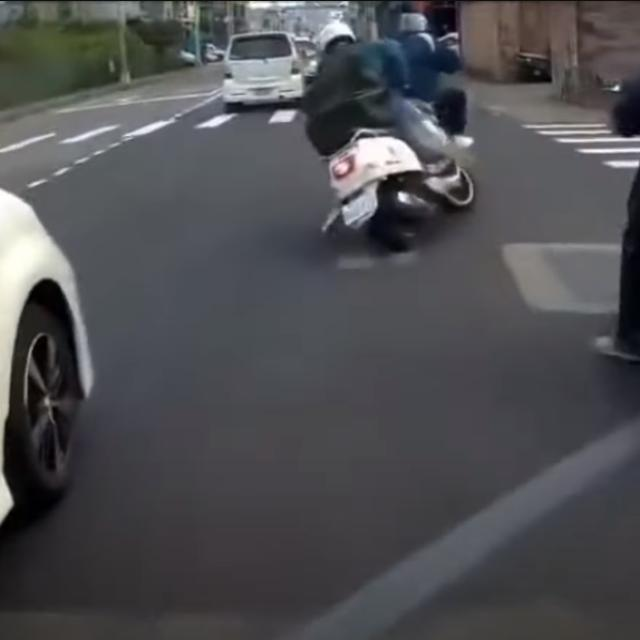accident: (296, 1, 524, 256)
